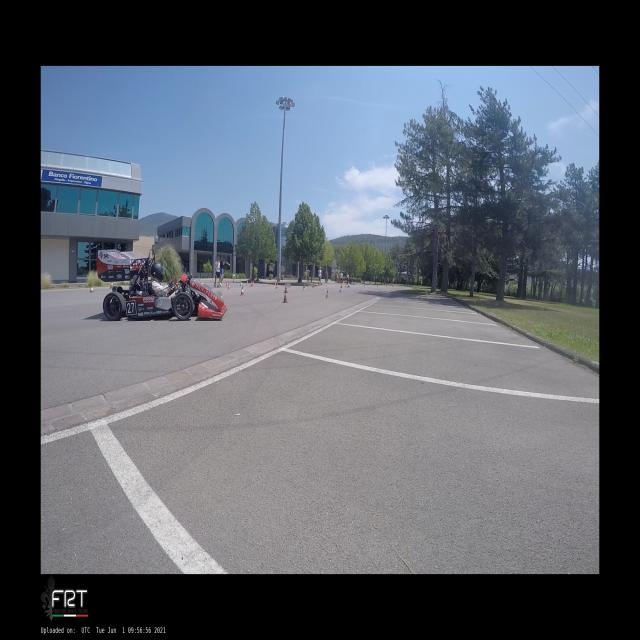blue_cone: (217, 281, 219, 287)
large_orange_cone: (284, 284, 288, 293)
orange_cone: (240, 286, 246, 296), (88, 284, 95, 292), (326, 290, 330, 298), (227, 283, 231, 289), (109, 282, 113, 288), (250, 281, 253, 287), (288, 282, 291, 287), (226, 281, 228, 287), (276, 283, 278, 289), (240, 281, 242, 287), (274, 282, 276, 286)
unknown_cone: (282, 292, 289, 302), (338, 286, 342, 292), (312, 282, 314, 288), (346, 285, 349, 288), (364, 283, 365, 287), (377, 283, 378, 287), (247, 280, 248, 284)
yellow_cone: (302, 284, 306, 290)
